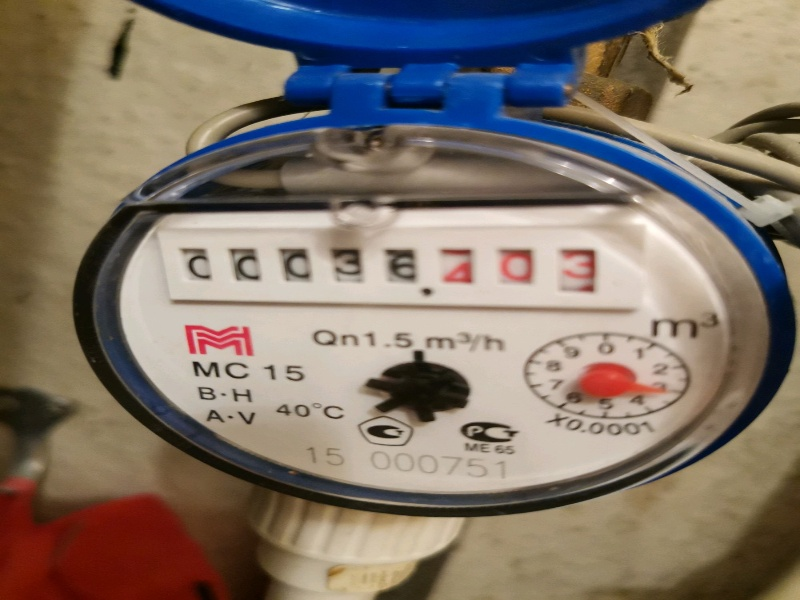dial: (153, 229, 625, 307)
